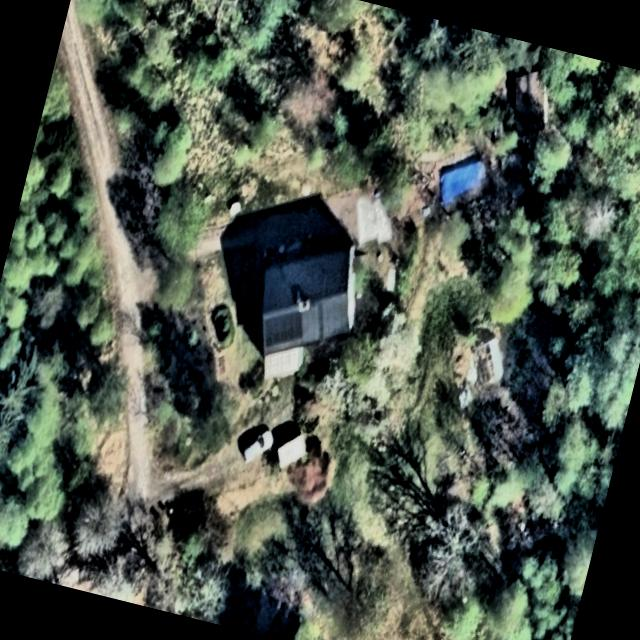roof_pv: (258, 301, 312, 355)
